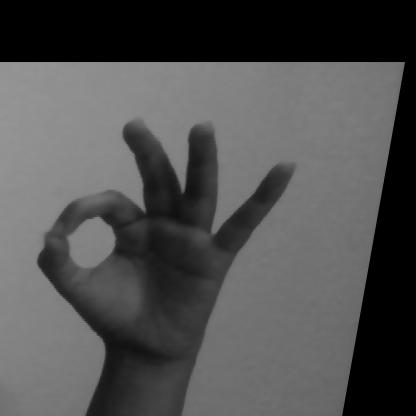ok: (18, 106, 320, 390)
